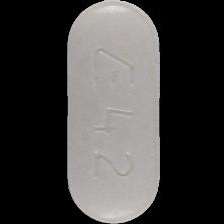35356-961: (0, 0, 224, 224)
